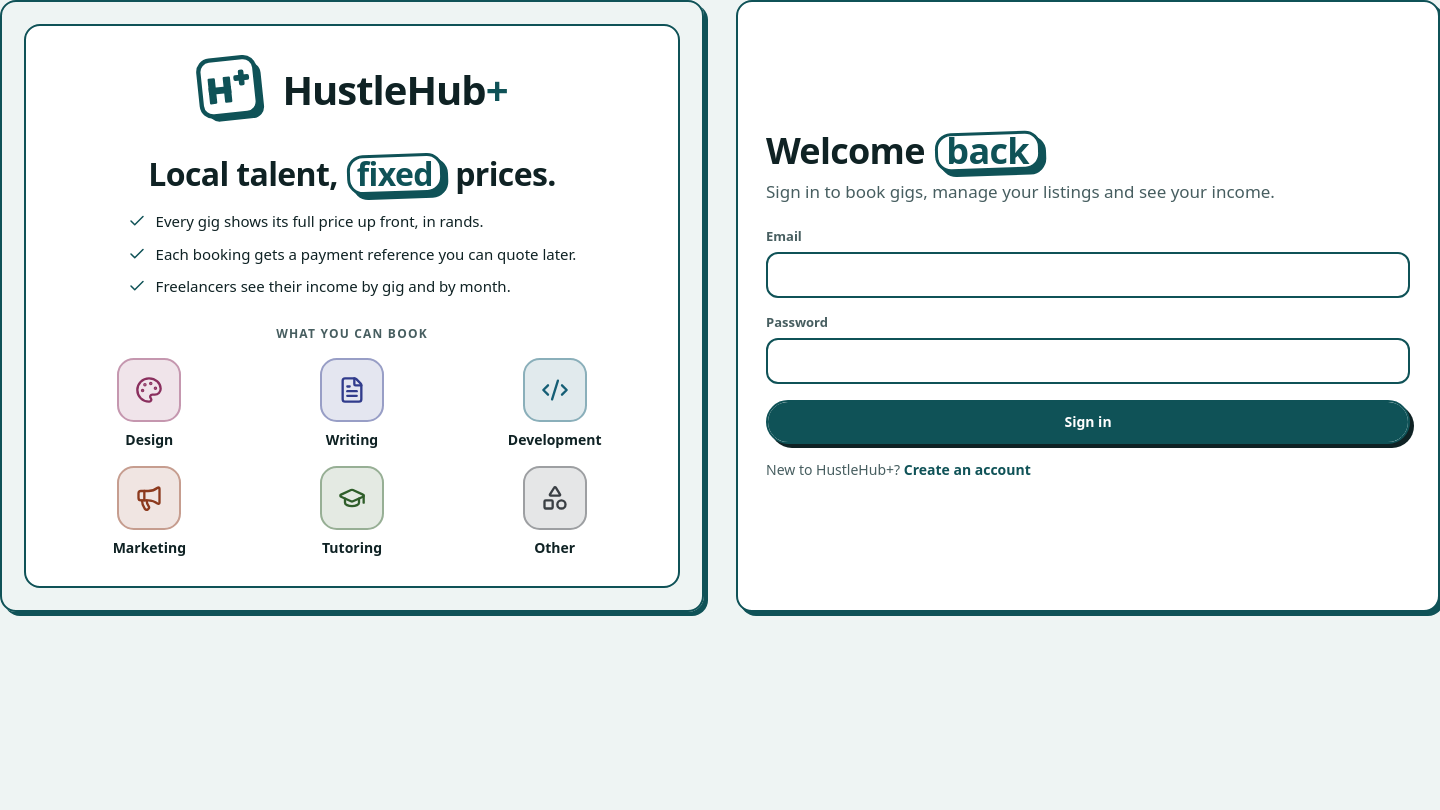
Test: Login page interaction › shows the api message and clears the password after a failed sign in
The image size is (1440, 810).
Type "me@example.co.za" into the field labelled "Email".
click(1088, 275); type("me@example.co.za")  # box [766,252,1410,298]
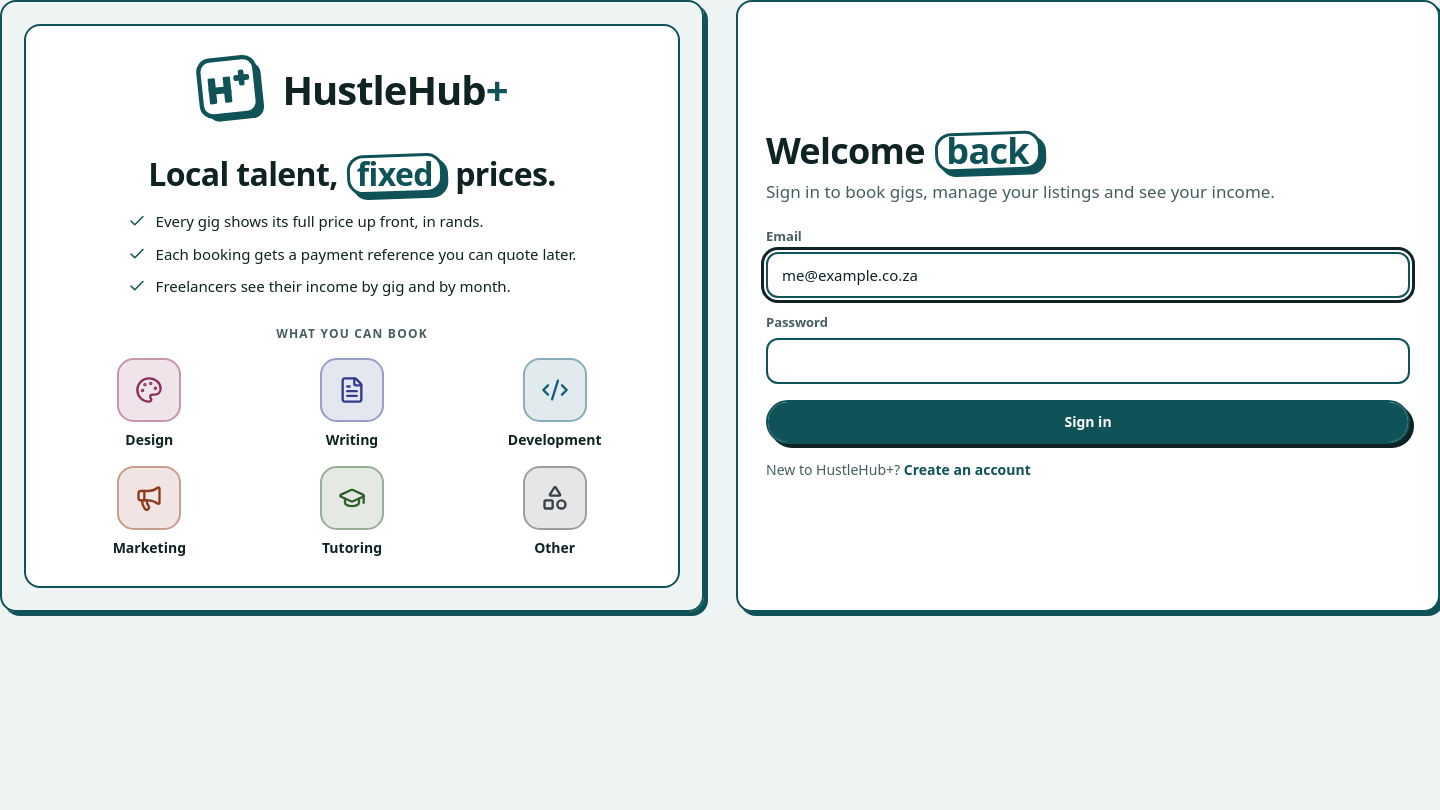
Type "wrongpass1" into the password field labelled "Password".
click(1088, 361); type("wrongpass1")  # box [766,338,1410,384]
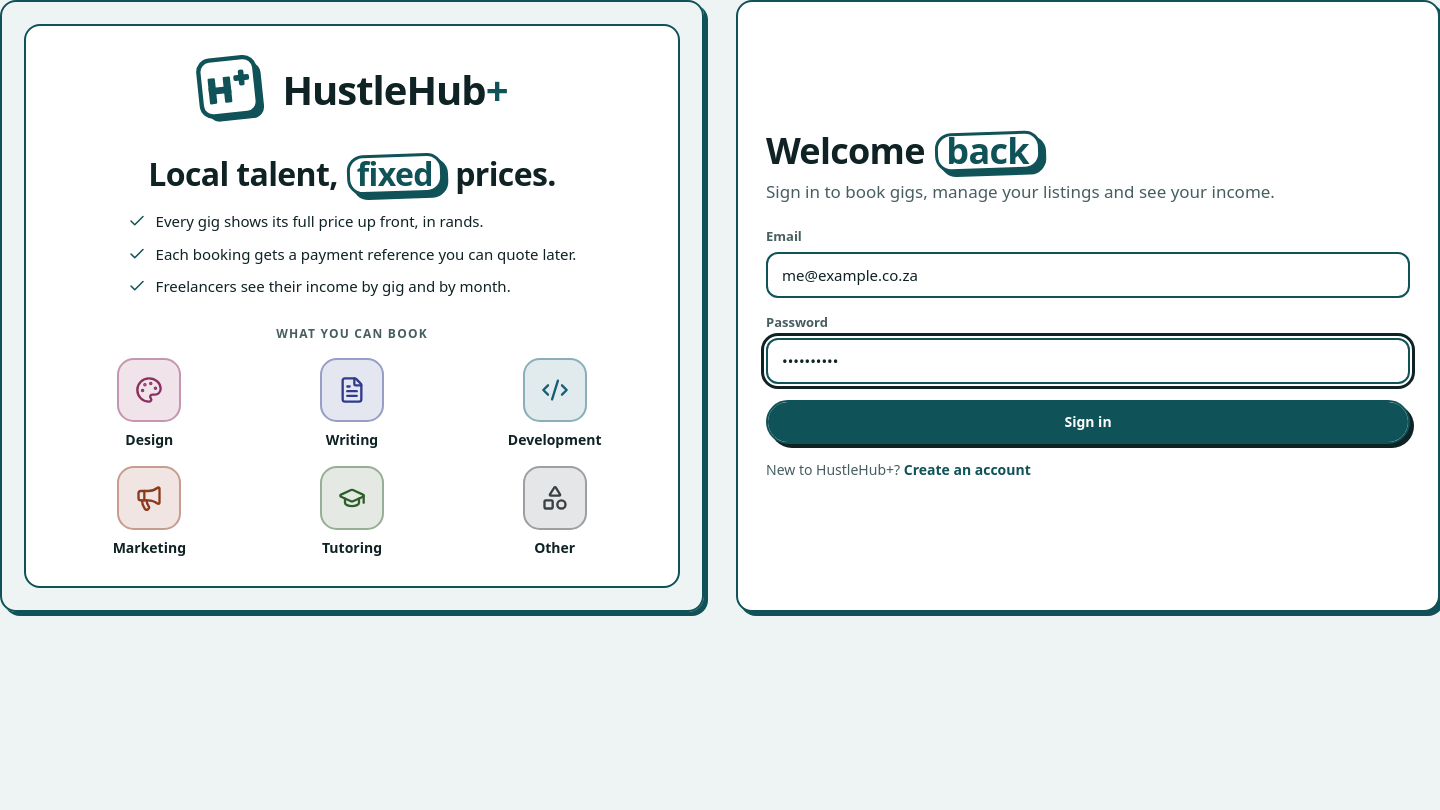
Click the button "Sign in".
click(1088, 422)  # box [766,400,1410,444]
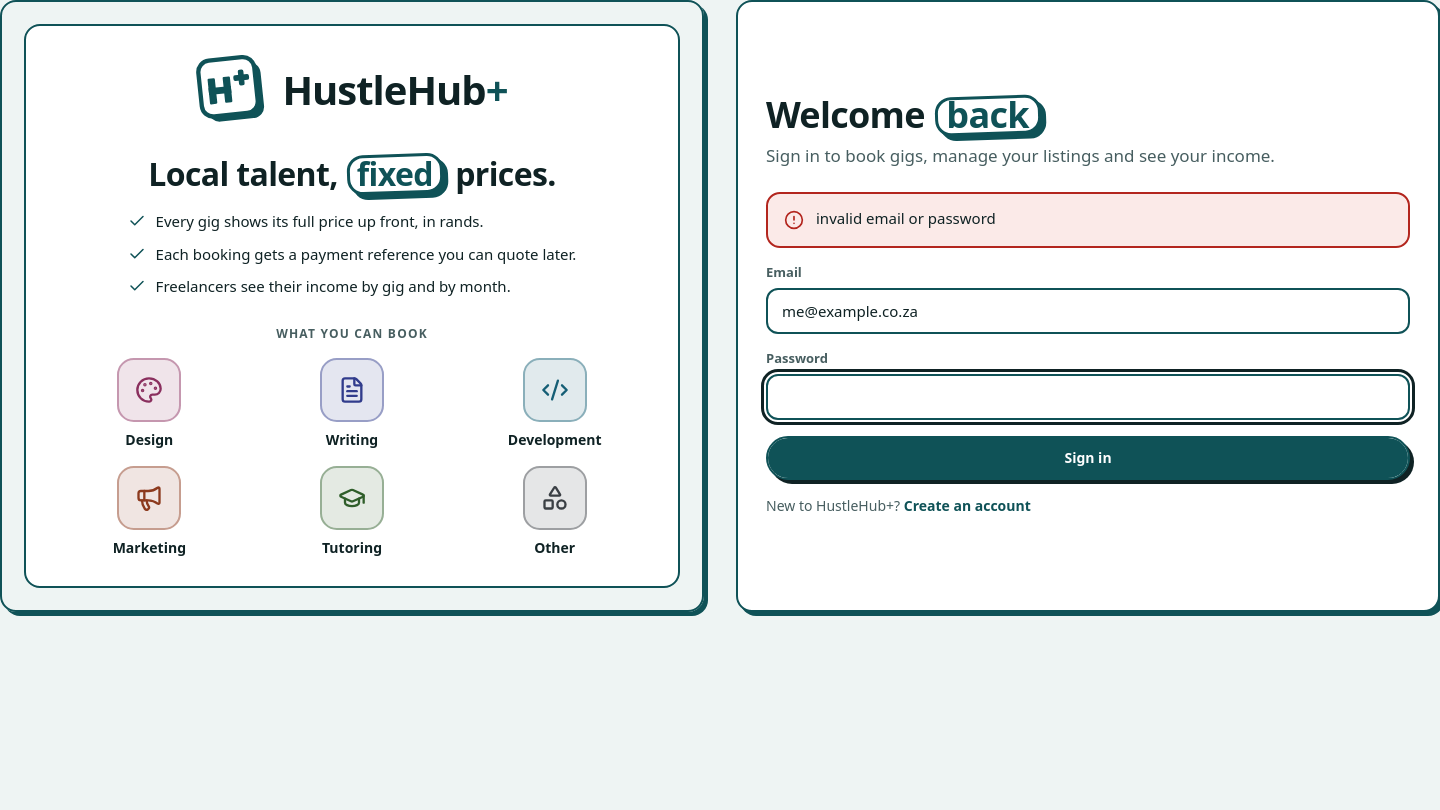
Expected: the text "invalid email or password" is shown, [816,208,996,228]
Expected: the password field labelled "Password" is empty, [766,374,1410,420]
